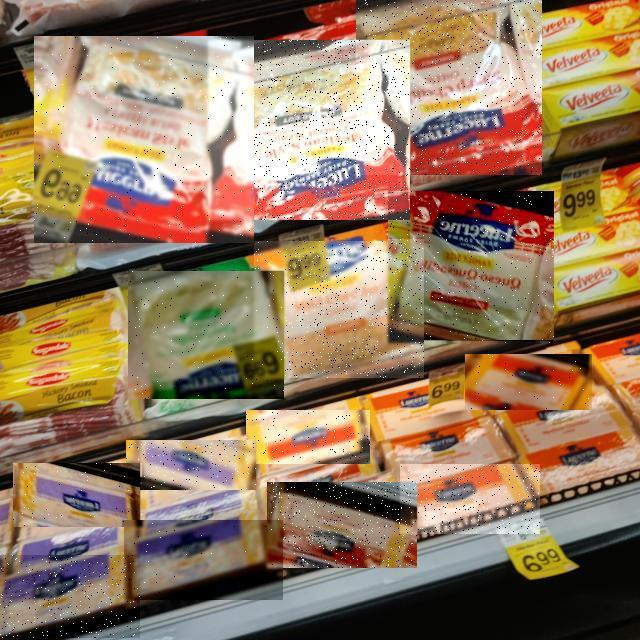Cheese: (35, 36, 255, 243), (208, 40, 410, 220), (357, 0, 543, 175), (388, 192, 554, 344), (254, 241, 424, 378), (129, 271, 285, 399), (267, 482, 417, 568), (124, 520, 283, 600), (0, 555, 140, 638), (400, 464, 540, 534), (14, 463, 144, 527), (466, 354, 594, 410), (246, 410, 370, 464), (127, 440, 257, 490)
